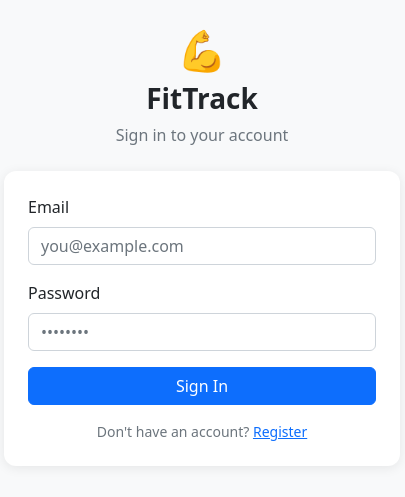
Login Component › shows validation error when password is empty
The width and height of the screenshot is (405, 497).
Type "user@test.com" into the field with placeholder "you@example.com" at (202, 246), box [28,227,376,265]
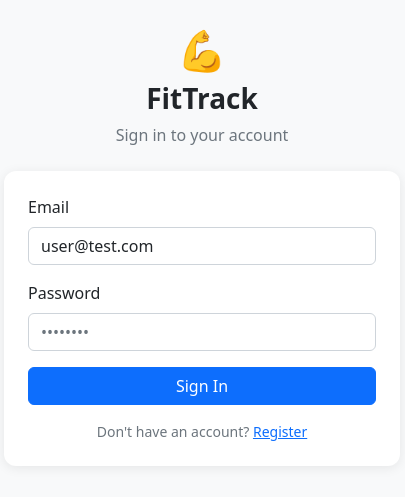
Click the button "Sign In" at (202, 386), box [28,367,376,405]
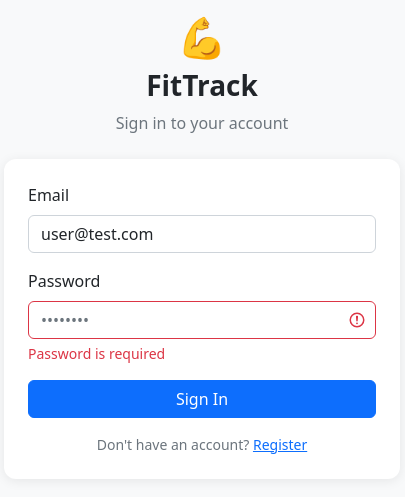
Expected: the text "Password is required" is shown, [28,344,165,363]
